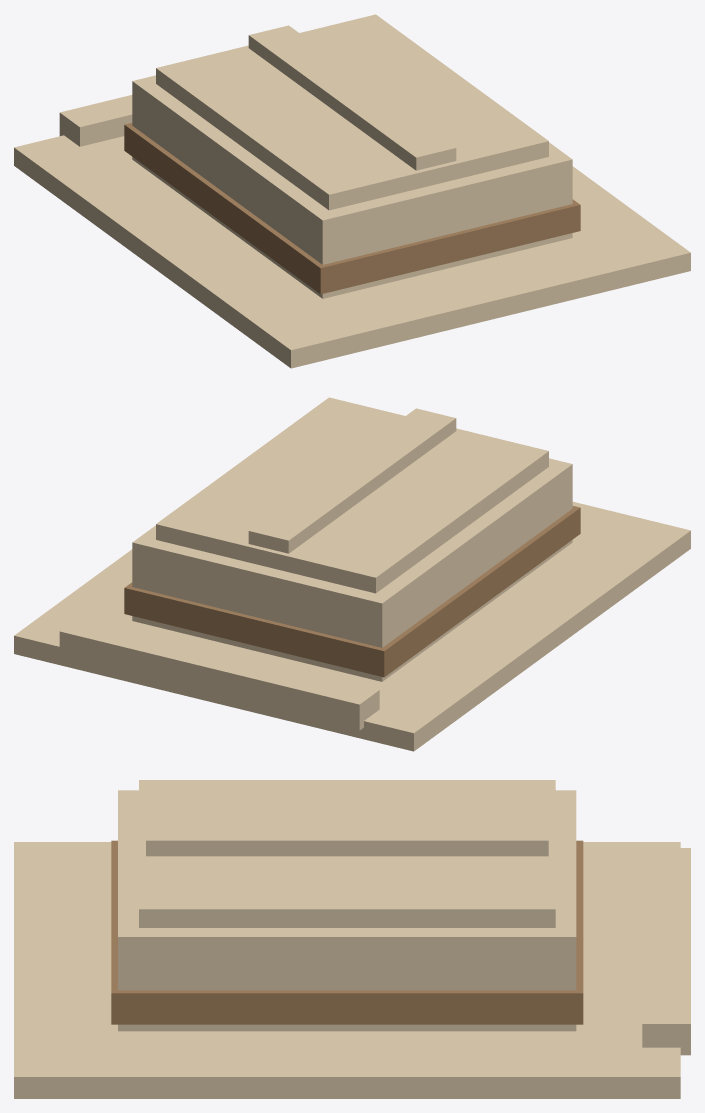
File: fedora_detetive.glb
3 views of the same model, one above another, from view 1: azimuth 30°, elevation 25°; view 2: azimuth 150°, elevation 25°; view 3: azimuth 270°, elevation 25° (orthographic). The views are drawn at different scales.
Parts seen in each view (by area): view 1: fedora_detetive; view 2: fedora_detetive; view 3: fedora_detetive.
Part boxes in pixels (bbox=[...]): fedora_detetive: bbox=[14, 14, 690, 368]; fedora_detetive: bbox=[14, 397, 690, 751]; fedora_detetive: bbox=[14, 780, 690, 1098].
Size of the model in its own units: 0.8 by 0.2425 by 0.975.
